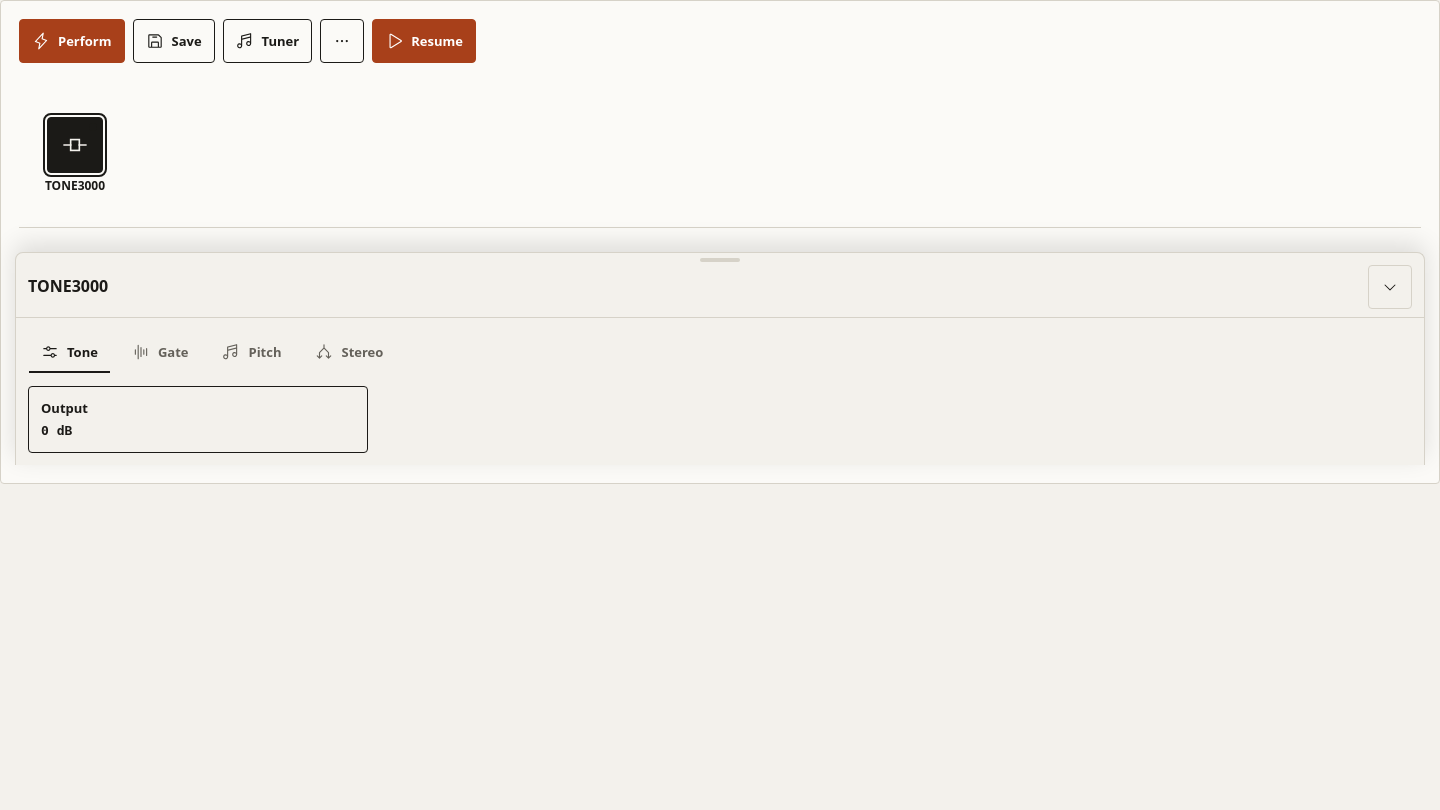
Test: rejects saving a different hybrid revision while its name dialog is open
What coordinates should you click on to do the following:
click the button with aria-label "Save copy"
I would click on:
 (174, 41)
Its box is left=132, top=19, right=215, bottom=63.
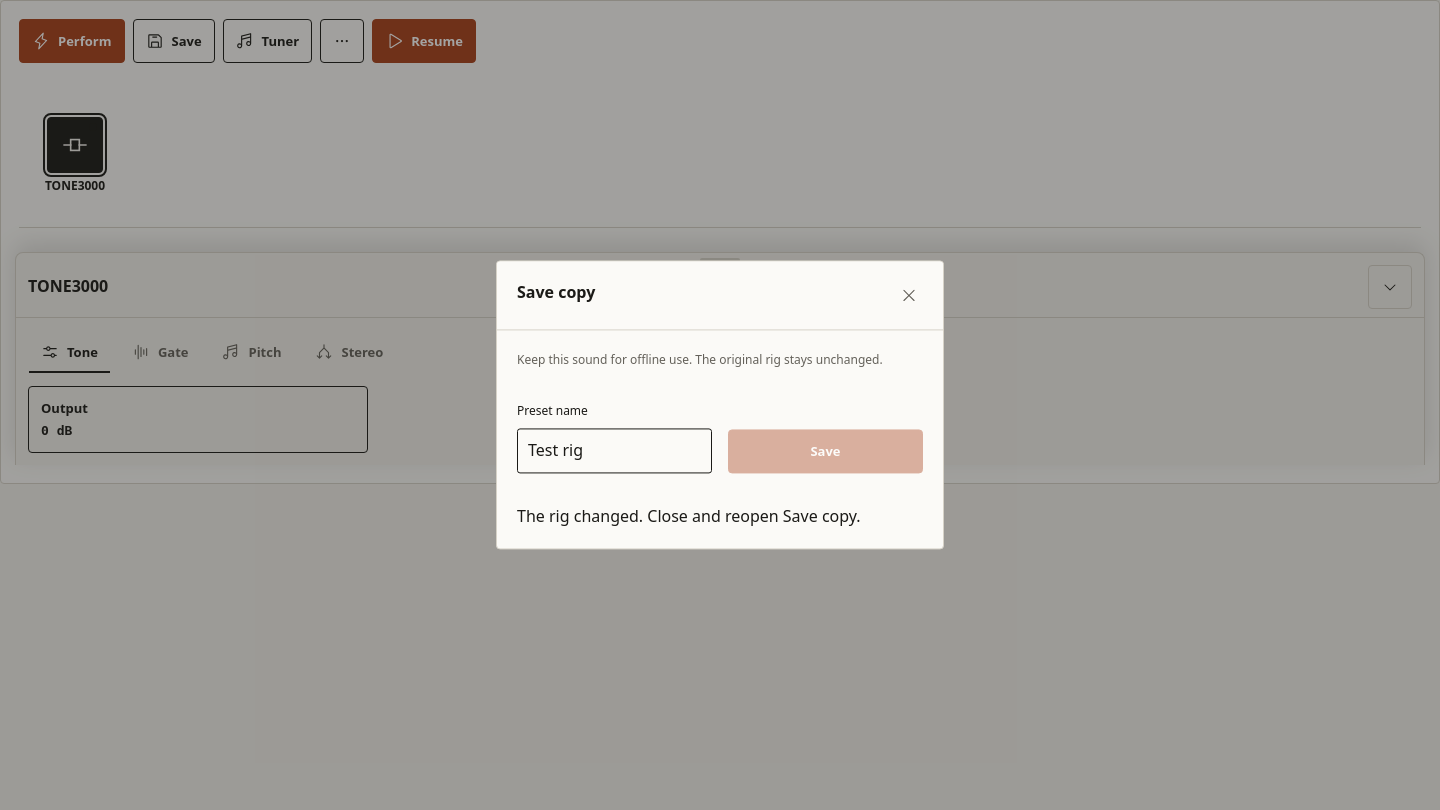
Now the text "The rig changed. Close and reopen Save copy." is shown, box left=517, top=505, right=861, bottom=527
Now the button "Save" is disabled, box left=728, top=429, right=923, bottom=473
